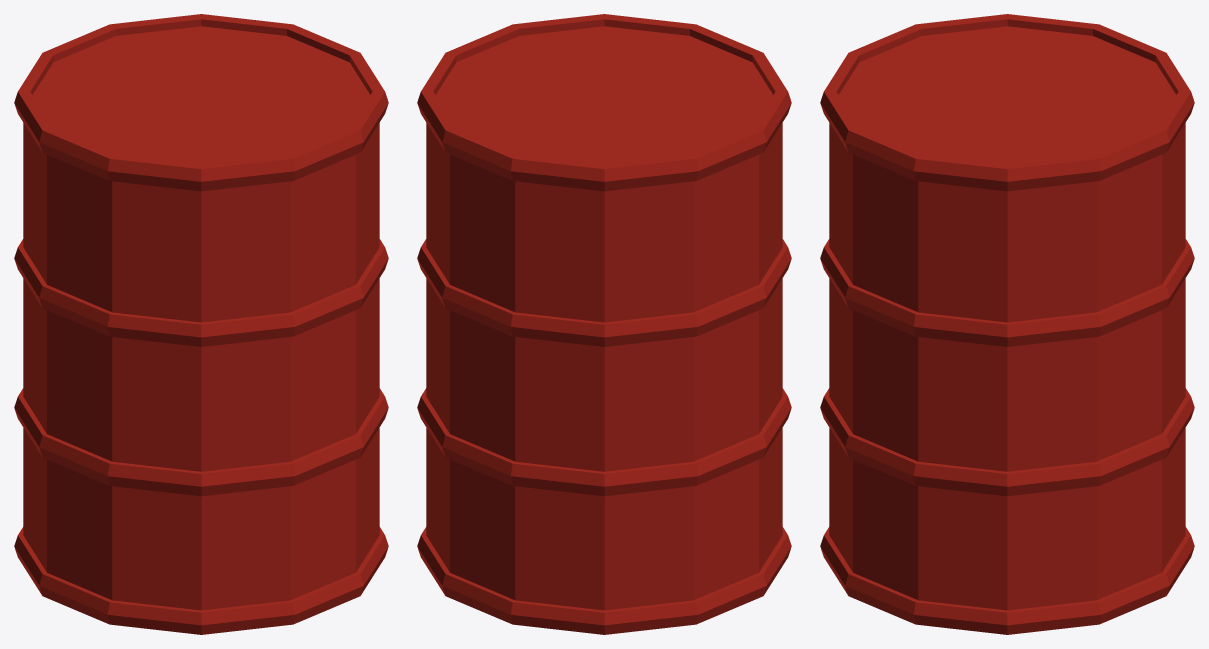
File: oil barrel.fbx
3 views of the same model, side by side, from view 1: azimuth 30°, elevation 25°; view 2: azimuth 150°, elevation 25°; view 3: azimuth 270°, elevation 25° (orthographic).
Visible parts, largest first — view 1: Cylinder; view 2: Cylinder; view 3: Cylinder.
Boxes of the visible parts, x1,y1,x2,y2 form: Cylinder: (14,14,388,634); Cylinder: (417,14,791,634); Cylinder: (820,14,1194,634).
Bounding box in the file's own units: 297 × 407 × 297.
